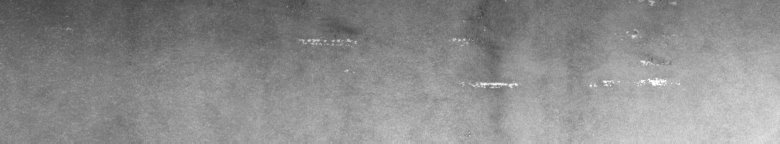hc: (449, 6, 518, 96)
